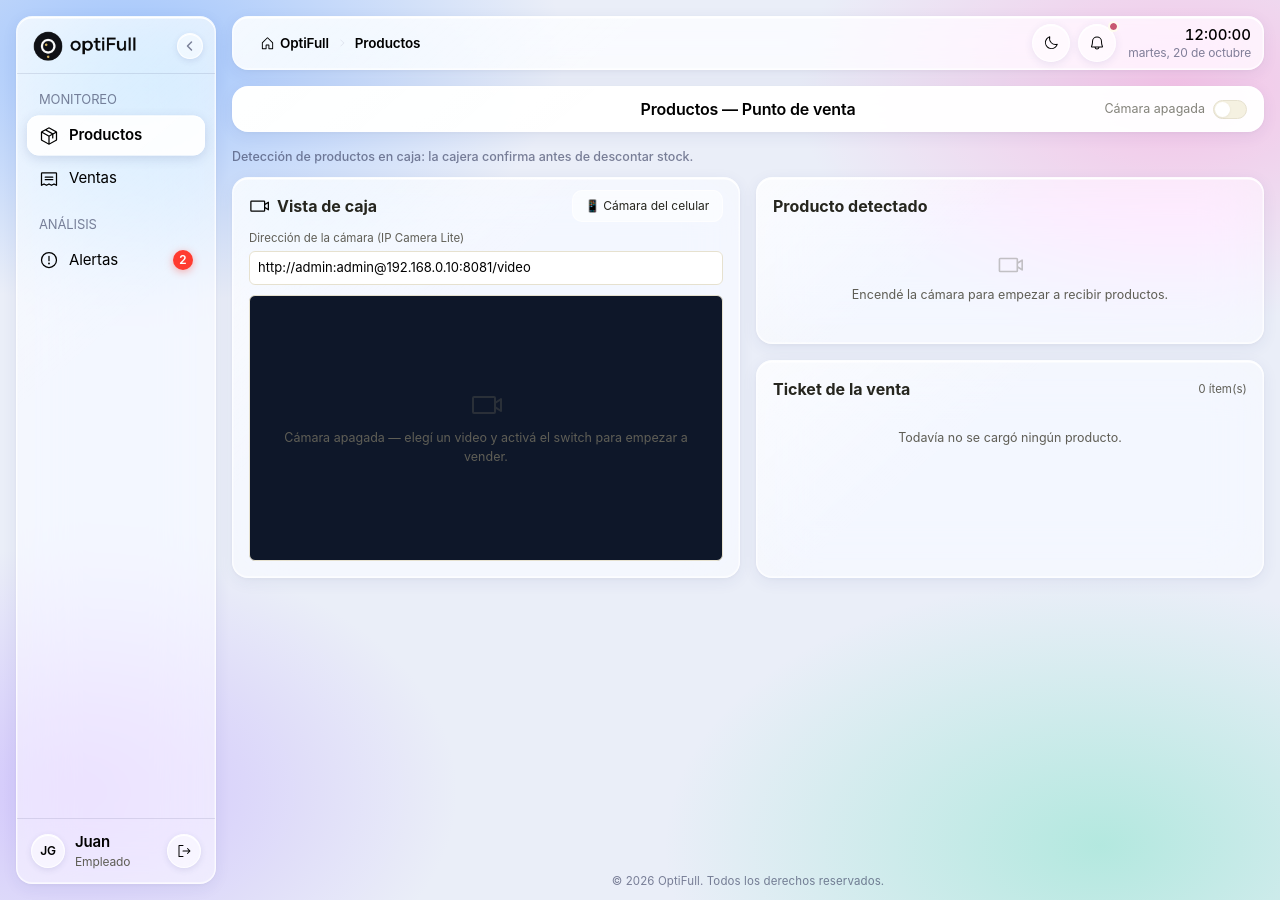
Test: permisos por rol › el empleado puede ir a Ventas, que está debajo de Productos
What coordinates should you click on to do the following:
click the link "Ventas"
I would click on:
 (78, 178)
Its box is [39, 168, 117, 189].
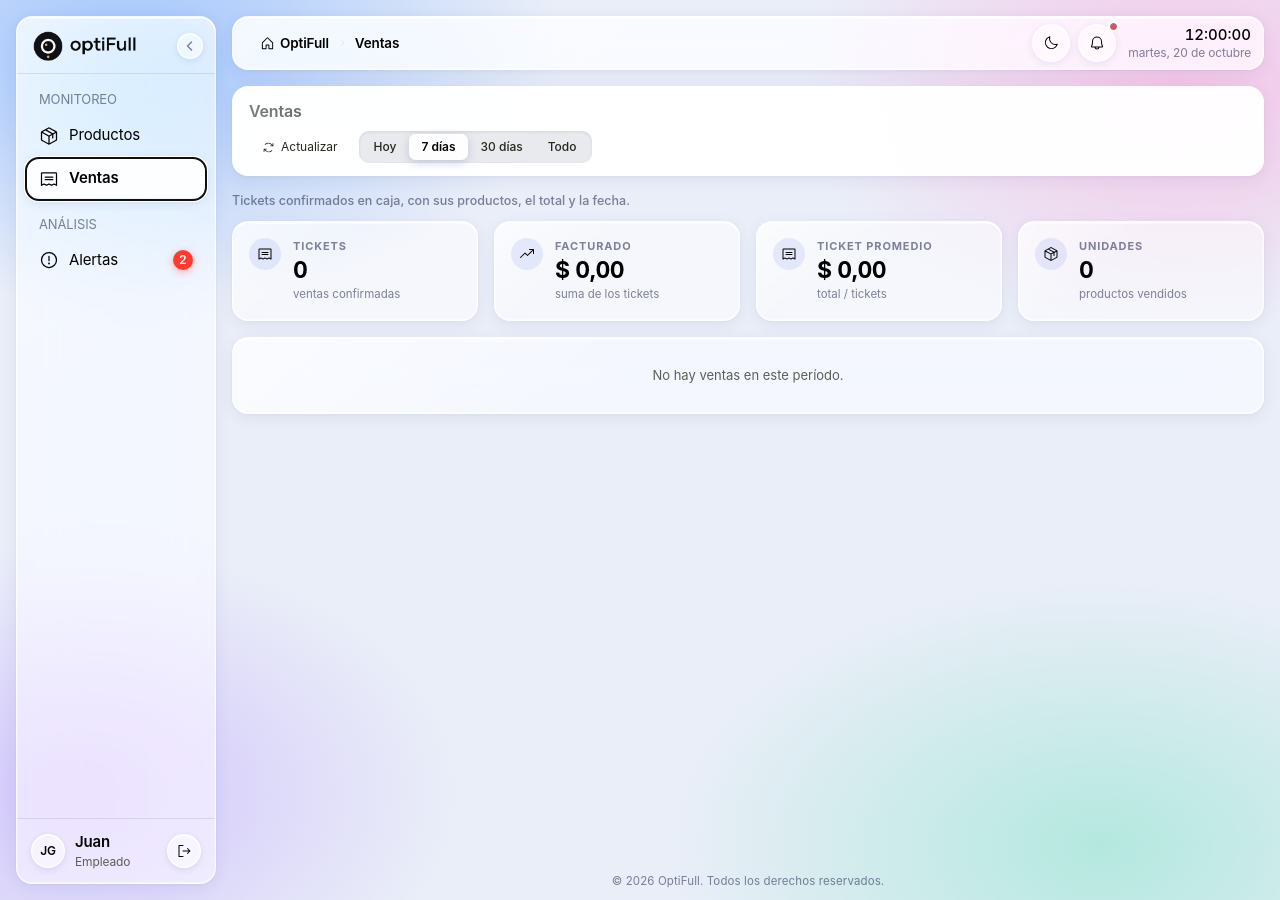
Expected: the 1st text "Ventas" is shown, [355, 35, 399, 51]
